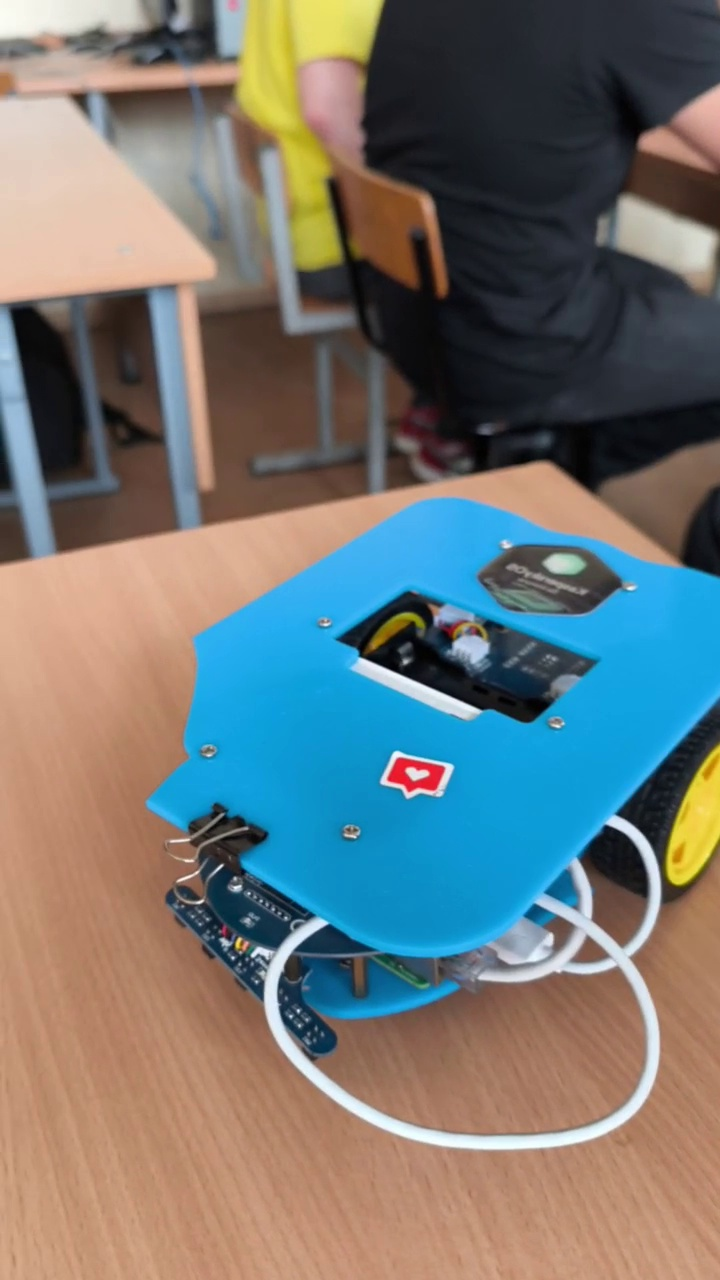robot: (144, 491, 720, 1150)
